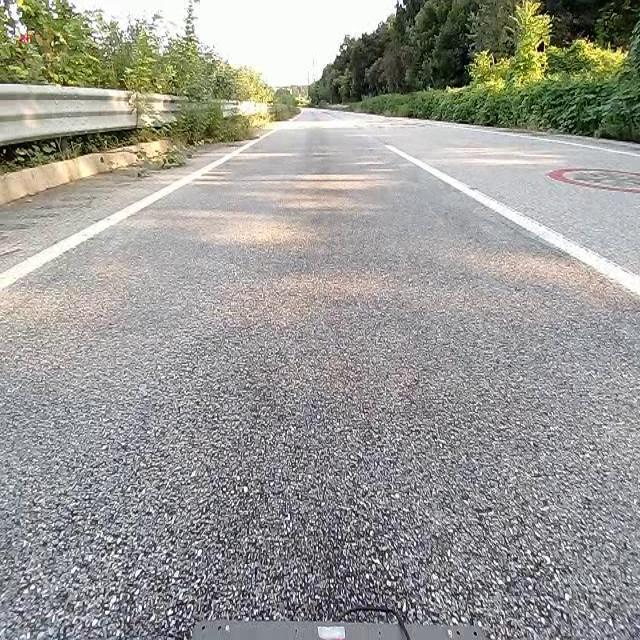Lane: (0, 118, 277, 303), (0, 128, 277, 294), (382, 137, 640, 305), (385, 145, 639, 295)
